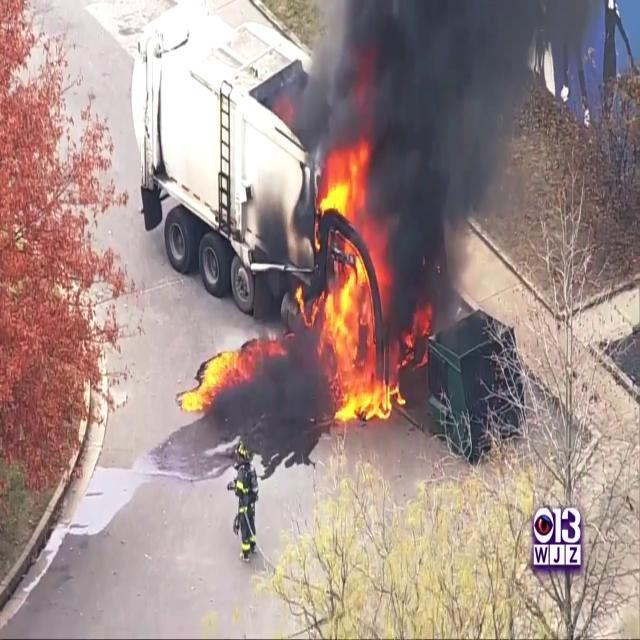Fire: (301, 136, 399, 424), (180, 329, 258, 422)
Smoke: (337, 0, 525, 335)
